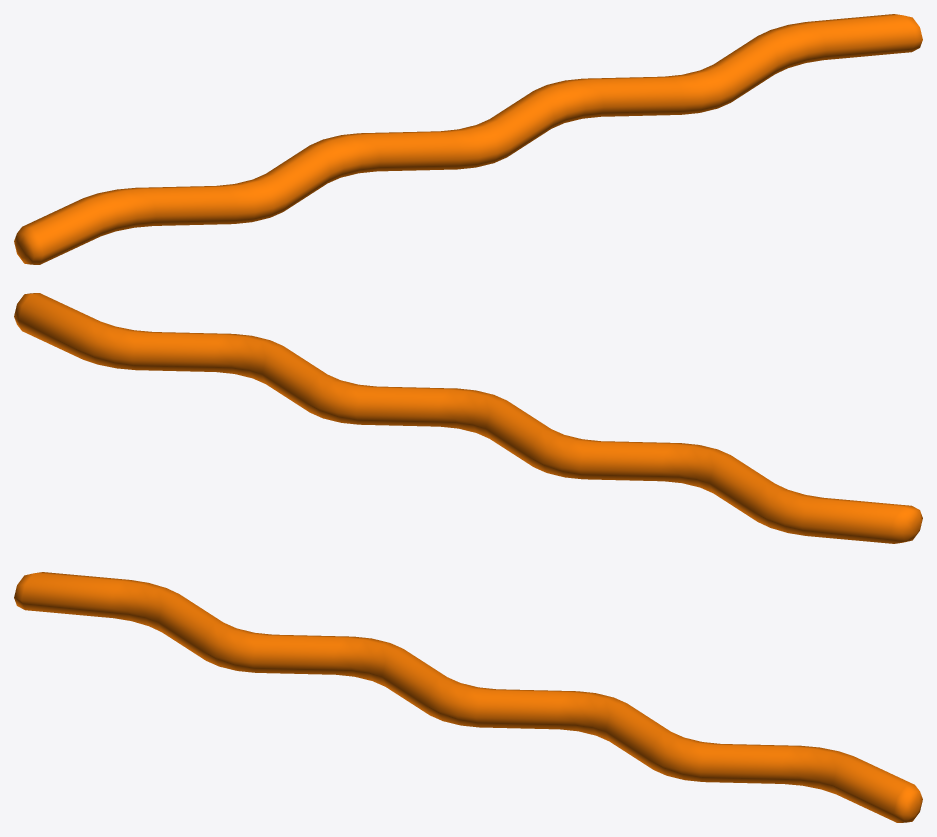
The model's file is Souse.002.fbx.
The picture shows the model from 3 angles, top to bottom: view 1: azimuth 30°, elevation 25°; view 2: azimuth 150°, elevation 25°; view 3: azimuth 330°, elevation 25°; orthographic projection.
Parts seen in each view (by area): view 1: Souse.002; view 2: Souse.002; view 3: Souse.002.
Part boxes in pixels (x1,y1,x2,y2): Souse.002: [14, 14, 922, 264]; Souse.002: [14, 293, 922, 543]; Souse.002: [14, 572, 922, 822].
Bounding box in the file's own units: 153 × 14.66 × 5.82.
